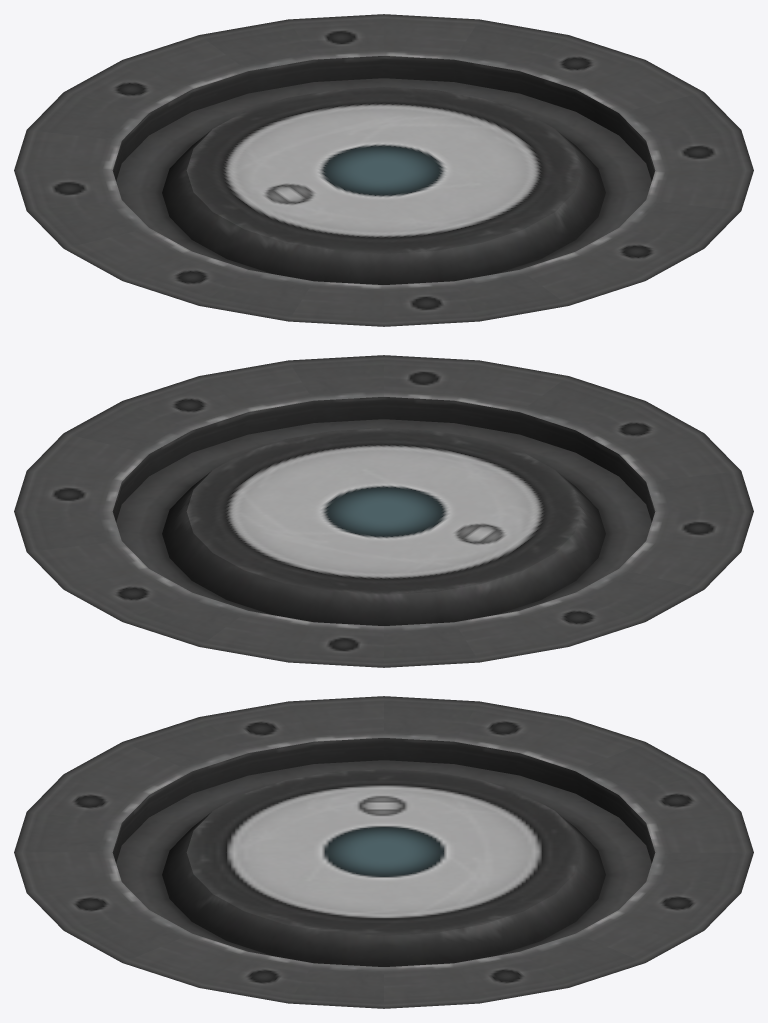
Rendered from end_crew_s0p5.obj.
The picture shows the model from 3 angles, top to bottom: view 1: azimuth 30°, elevation 25°; view 2: azimuth 150°, elevation 25°; view 3: azimuth 270°, elevation 25°; orthographic projection.
Visible parts, largest first — view 1: end; view 2: end; view 3: end.
Part boxes in pixels (x1=…): end: x1=14, y1=14, x2=753, y2=326; end: x1=14, y1=355, x2=753, y2=667; end: x1=14, y1=696, x2=753, y2=1008.
Bounding box in the file's own units: 0.9375 × 0.0312 × 0.9375.
